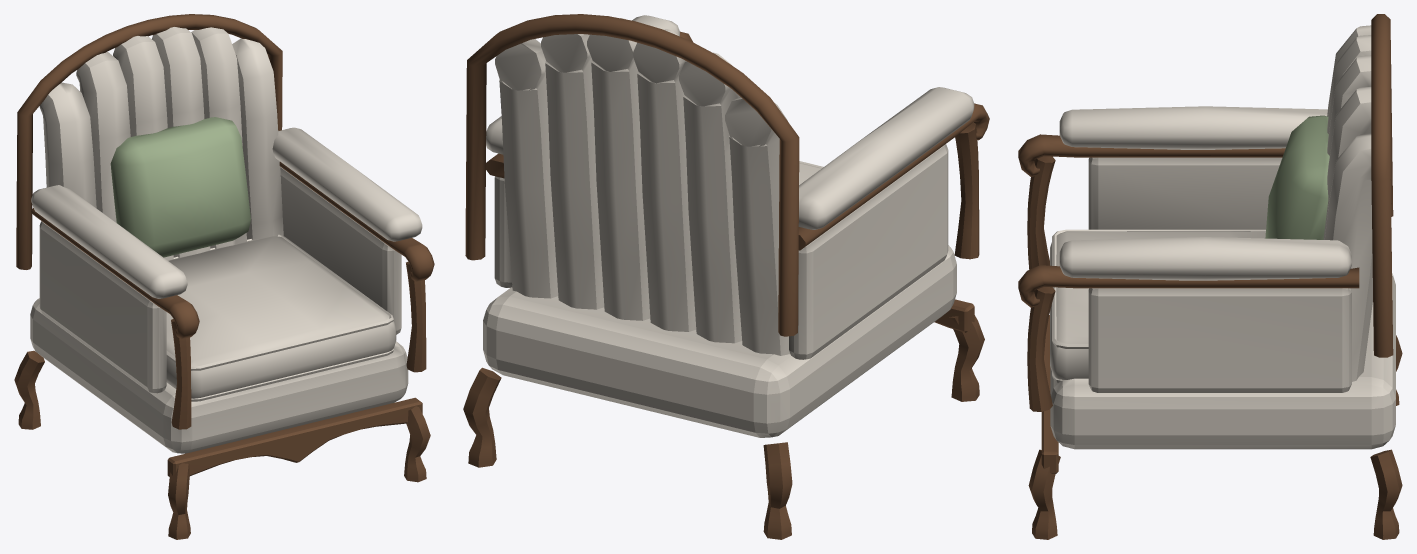
File: armchair.glb
The picture shows the model from 3 angles, left to right: view 1: azimuth 30°, elevation 25°; view 2: azimuth 150°, elevation 25°; view 3: azimuth 270°, elevation 25°; orthographic projection. The views are drawn at different scales.
Visible parts, largest first — view 1: chair, seat; view 2: chair; view 3: chair, seat.
Boxes of the visible parts, <box> form: chair: <box>14,14,434,539</box>; seat: <box>166,234,396,401</box>; chair: <box>463,14,989,539</box>; chair: <box>1018,14,1402,539</box>; seat: <box>1050,229,1265,382</box>.
Size of the model in its own units: 0.74 by 0.9829 by 0.7948.
